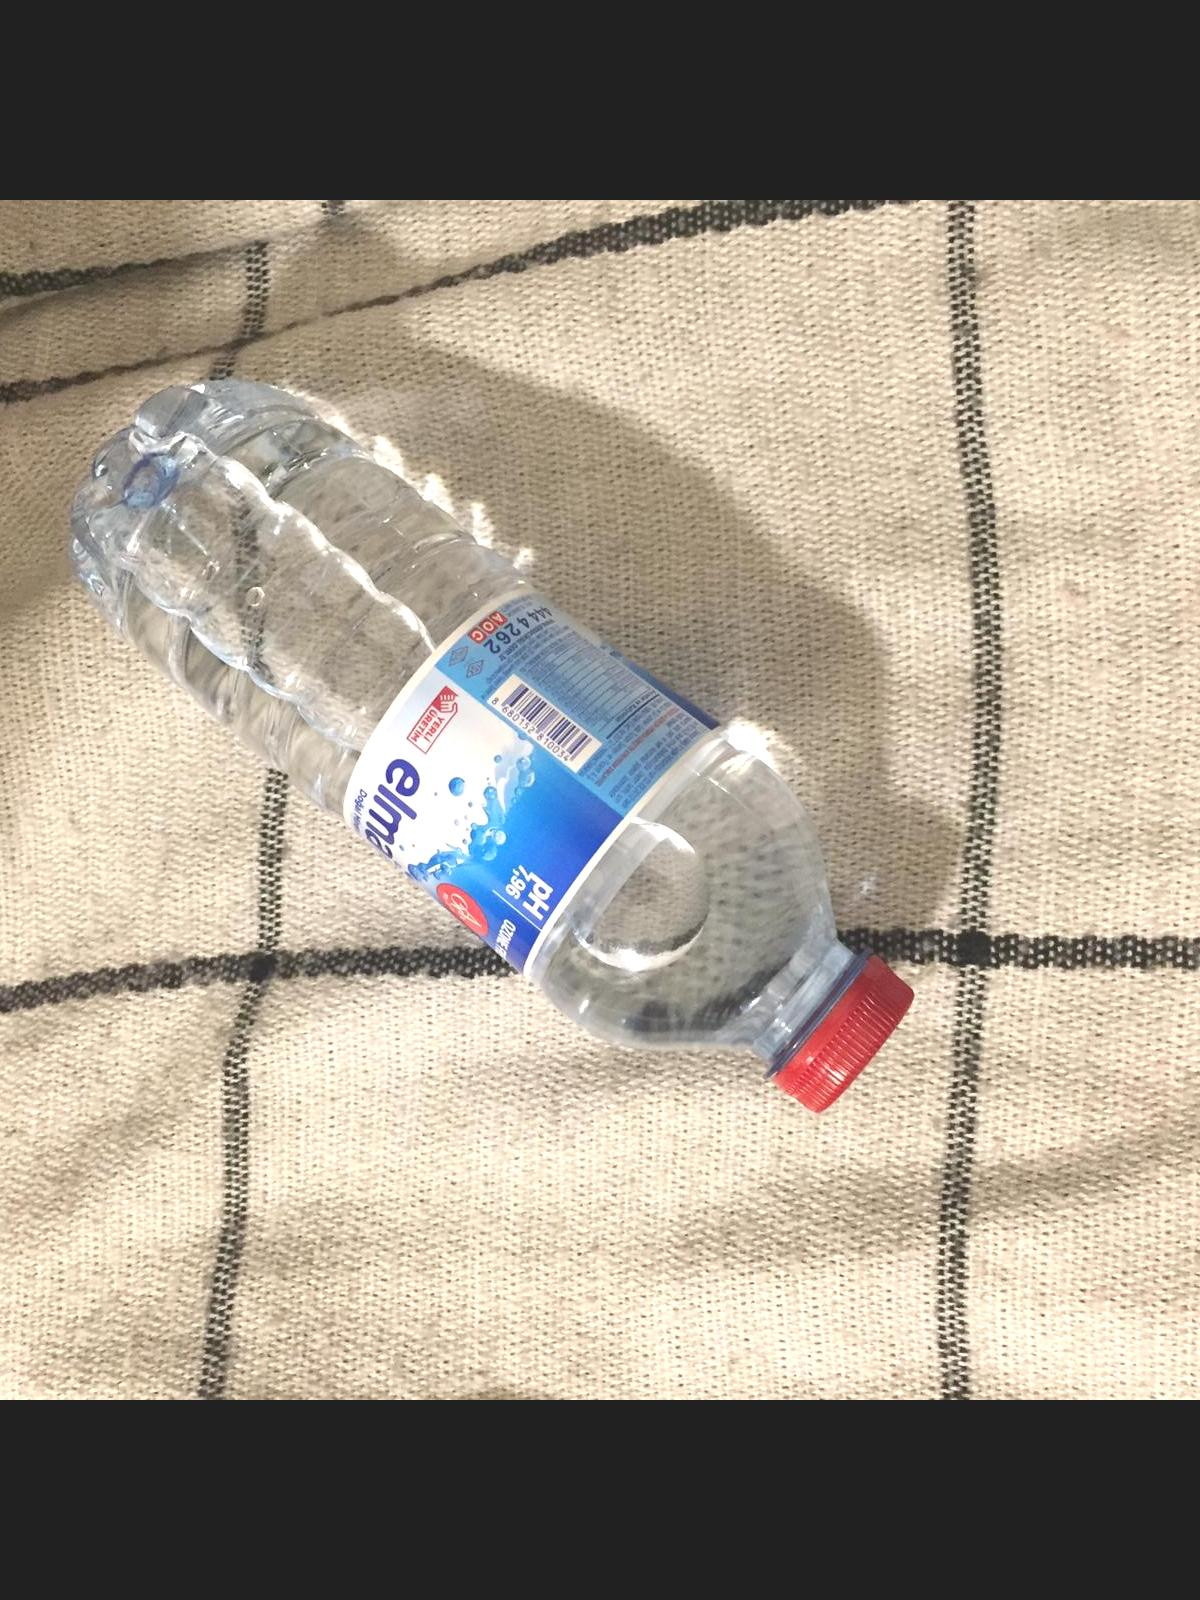bottle: (47, 368, 913, 1116)
